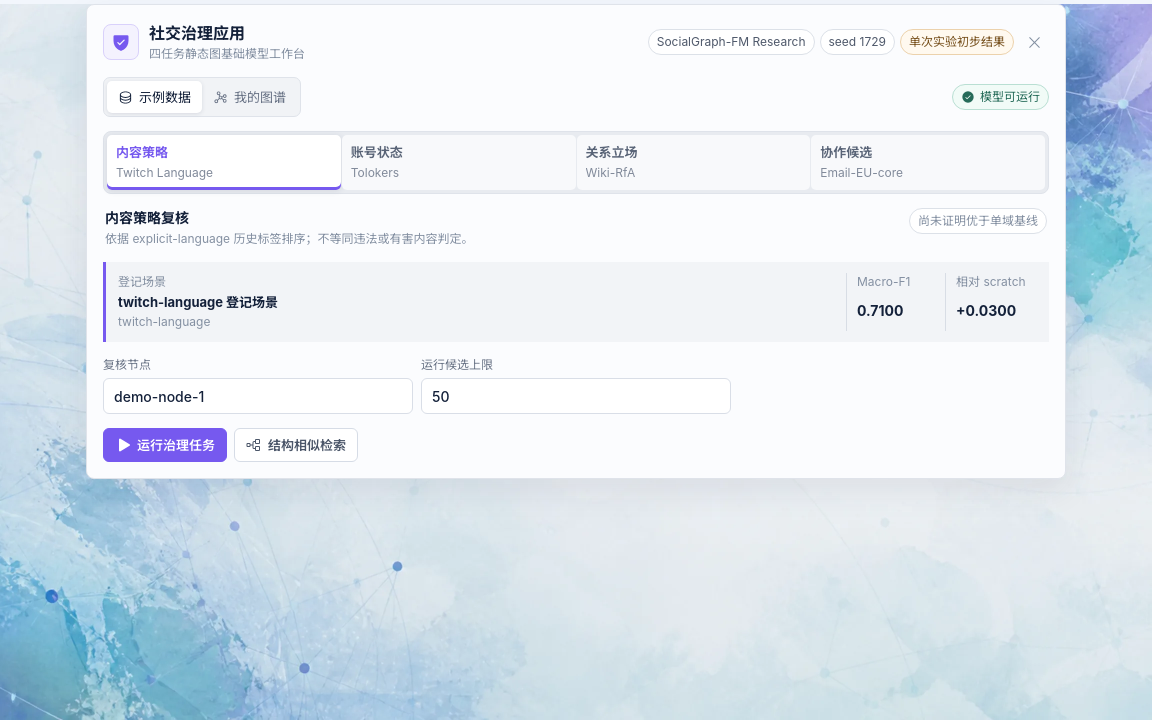
Scenario: SocialGraph-FM Research governance workbench › labels registered full-graph counts separately from a bounded scenario projection
Click the button "运行治理任务": [165, 445] box [103, 428, 227, 462]
(page scrolled)
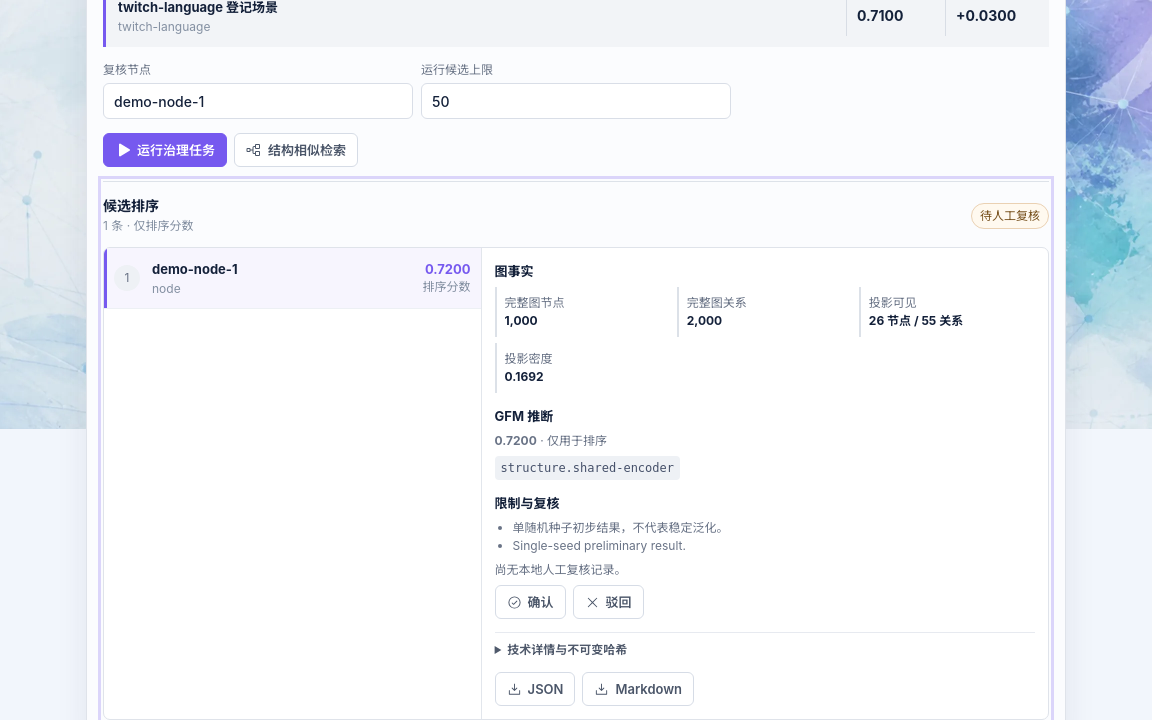
Check: the text "完整图节点" is shown, box [505, 295, 565, 310]
Check: the text "1,000" is shown, box [505, 313, 538, 328]
Check: the text "完整图关系" is shown, box [687, 295, 747, 310]
